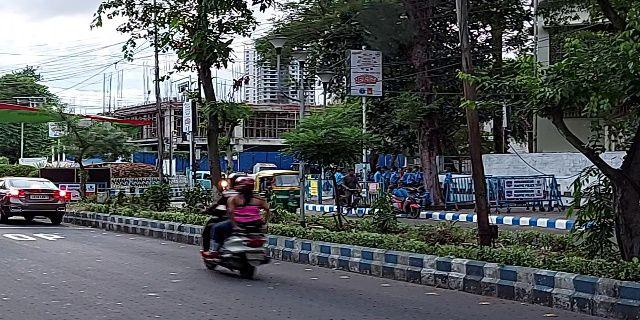Car: (2, 171, 70, 229)
Motorbike: (201, 174, 274, 283)
